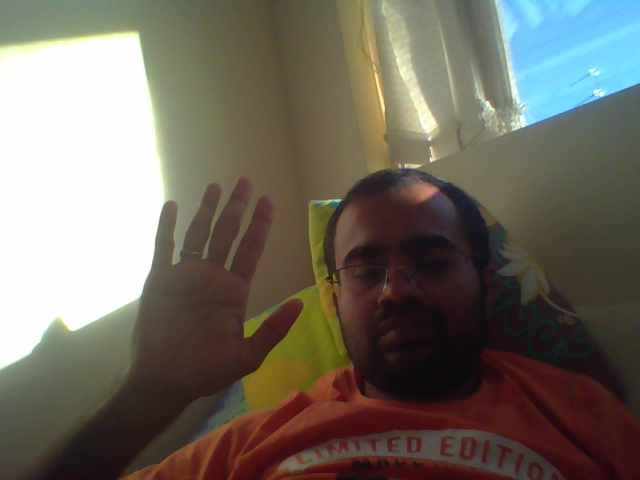LiveLong: (127, 176, 306, 394)
